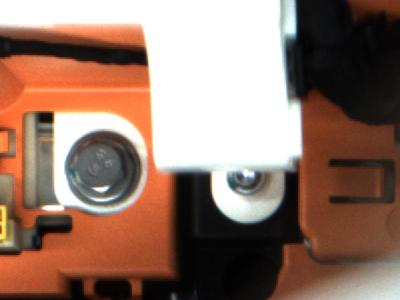nut_b: (65, 134, 139, 209)
